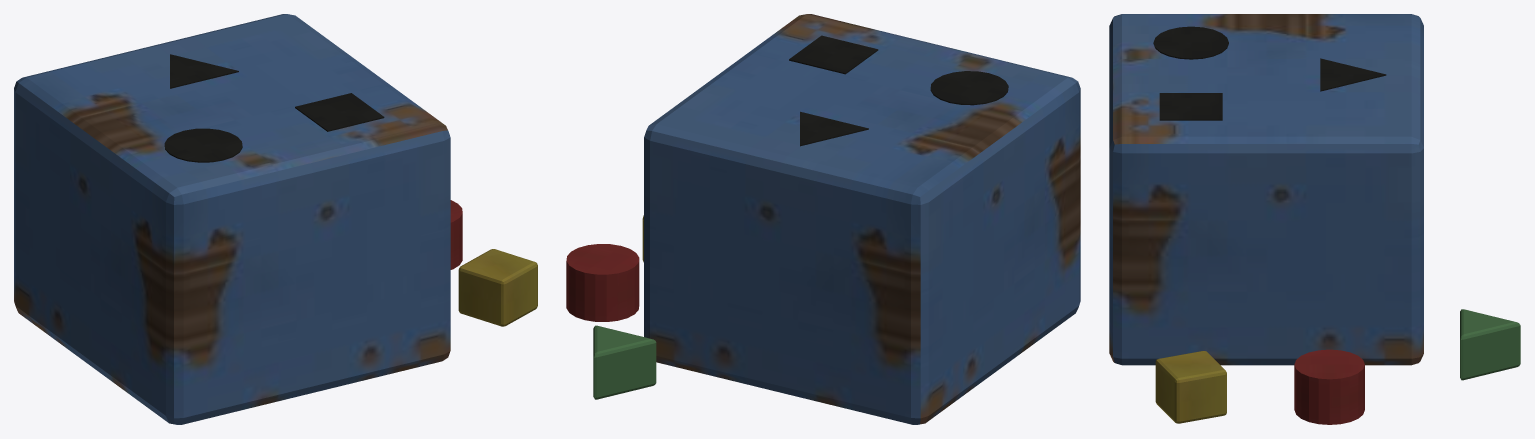
Rendered from TY18_ShapeSorter.glb.
3 views of the same model, side by side, from view 1: azimuth 30°, elevation 25°; view 2: azimuth 150°, elevation 25°; view 3: azimuth 270°, elevation 25° (orthographic). The views are drawn at different scales.
Visible parts, largest first — view 1: TY18_ShapeSorter; view 2: TY18_ShapeSorter; view 3: TY18_ShapeSorter.
Part boxes in pixels (x1=…): TY18_ShapeSorter: x1=14, y1=14, x2=537, y2=424; TY18_ShapeSorter: x1=566, y1=14, x2=1080, y2=424; TY18_ShapeSorter: x1=1109, y1=14, x2=1520, y2=424.
Bounding box in the file's own units: 0.3 × 0.1707 × 0.2773.
5 materials, 5 textured.
